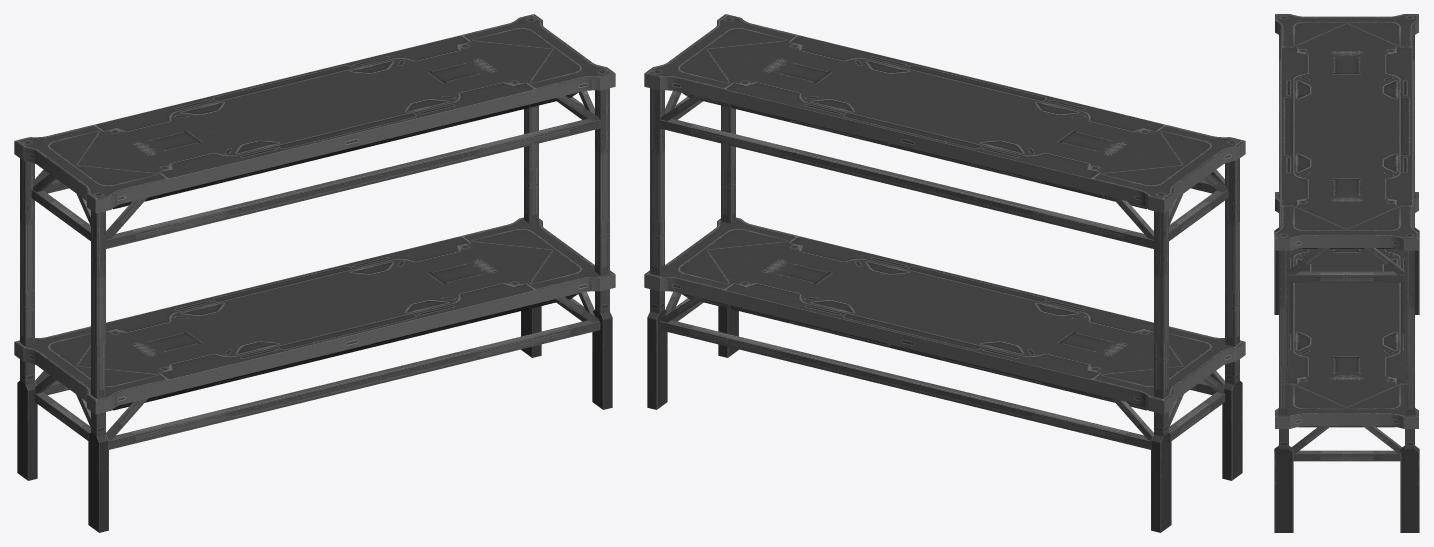
File: Prop_Shelves_WideShort.glb
The picture shows the model from 3 angles, left to right: view 1: azimuth 30°, elevation 25°; view 2: azimuth 150°, elevation 25°; view 3: azimuth 270°, elevation 25°; orthographic projection. The views are drawn at different scales.
Visible parts, largest first — view 1: Prop_Shelves_WideShort; view 2: Prop_Shelves_WideShort; view 3: Prop_Shelves_WideShort.
Boxes of the visible parts, bbox=[...] form: Prop_Shelves_WideShort: bbox=[14, 14, 615, 532]; Prop_Shelves_WideShort: bbox=[644, 14, 1245, 532]; Prop_Shelves_WideShort: bbox=[1274, 14, 1419, 532].
Bounding box in the file's own units: 1.98 × 1.21 × 0.5408.
Materials: 1 (1 with a texture image).
